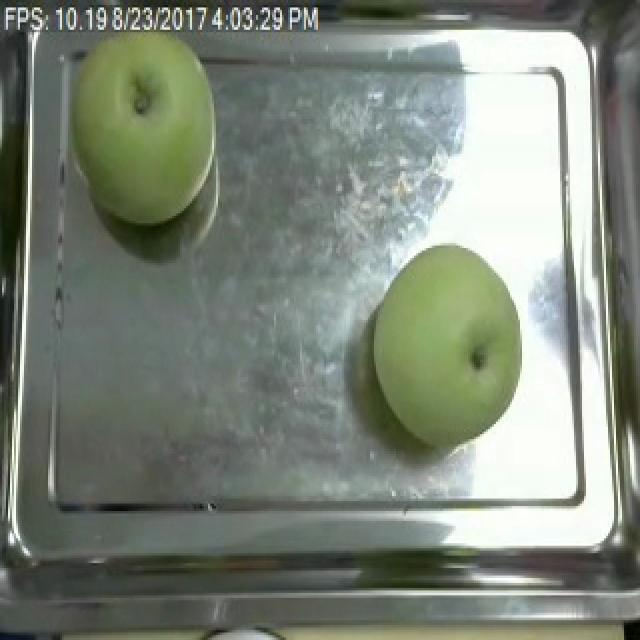50-_ripeness: (358, 236, 532, 455), (70, 29, 240, 230)
